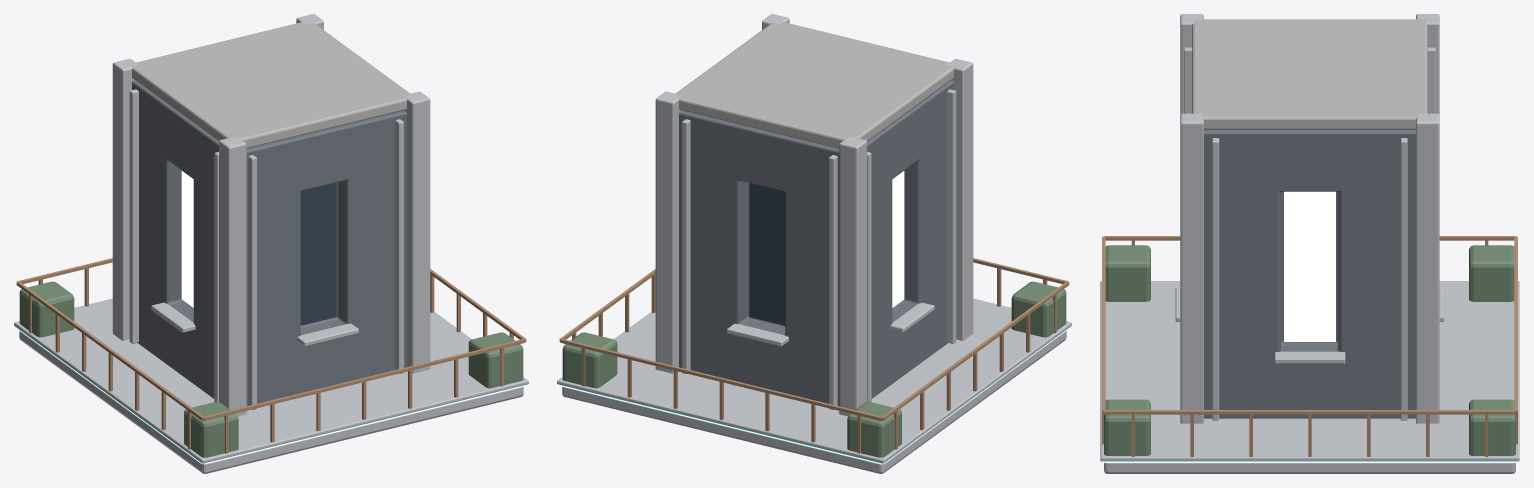
The model's file is transfer_3x3_2x2_office.glb.
The picture shows the model from 3 angles, left to right: view 1: azimuth 30°, elevation 25°; view 2: azimuth 150°, elevation 25°; view 3: azimuth 270°, elevation 25°; orthographic projection. The views are drawn at different scales.
Parts seen in each view (by area): view 1: ext_wall, int_ceiling, int_slab_edge, int_columns, ext_frames, ext_deck_rail, ext_deck_plants, int_slab, ext_panes_dark, ext_panes_lit, ext_deck_glow; view 2: ext_wall, int_ceiling, int_slab_edge, int_columns, ext_frames, ext_deck_rail, ext_deck_plants, int_slab, ext_panes_dark, ext_panes_lit, ext_deck_glow; view 3: ext_wall, int_slab_edge, int_ceiling, int_columns, ext_deck_plants, ext_panes_lit, ext_frames, ext_deck_rail, int_slab, ext_deck_glow.
Boxes of the visible parts, box(x1,y1,x2,y2) form: ext_wall: box(132, 80, 406, 406); int_ceiling: box(132, 22, 411, 148); int_slab_edge: box(14, 298, 528, 463); int_columns: box(112, 14, 430, 416); ext_frames: box(129, 89, 403, 409); ext_deck_rail: box(16, 258, 526, 453); ext_deck_plants: box(19, 281, 523, 457); int_slab: box(19, 331, 523, 473); ext_panes_dark: box(300, 183, 336, 325); ext_panes_lit: box(181, 171, 193, 307); ext_deck_glow: box(16, 327, 526, 464); ext_wall: box(679, 80, 953, 406); int_ceiling: box(673, 22, 953, 148); int_slab_edge: box(557, 298, 1071, 463); int_columns: box(655, 14, 973, 416); ext_frames: box(682, 89, 956, 409); ext_deck_rail: box(559, 258, 1069, 453); ext_deck_plants: box(562, 281, 1066, 457); int_slab: box(562, 331, 1066, 473); ext_panes_dark: box(749, 183, 785, 325); ext_panes_lit: box(892, 171, 904, 307); ext_deck_glow: box(559, 327, 1069, 464); ext_wall: box(1204, 129, 1415, 418); int_slab_edge: box(1100, 281, 1519, 461); int_ceiling: box(1192, 19, 1427, 129); int_columns: box(1180, 14, 1439, 423); ext_deck_plants: box(1104, 245, 1515, 455); ext_panes_lit: box(1284, 191, 1335, 341); ext_frames: box(1175, 47, 1444, 420); ext_deck_rail: box(1102, 236, 1517, 456); int_slab: box(1104, 463, 1515, 473); ext_deck_glow: box(1101, 461, 1518, 462).
Bounding box in the file's own units: 3.56 × 3 × 3.56.
